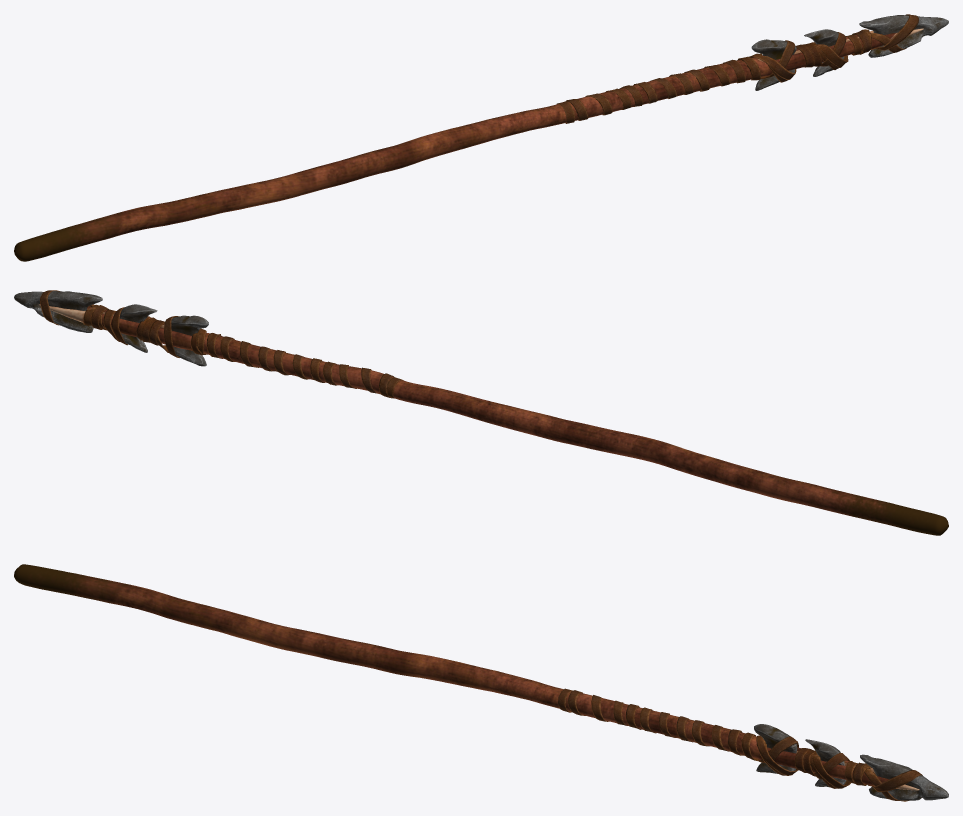
File: primal_spear.glb
3 views of the same model, one above another, from view 1: azimuth 30°, elevation 25°; view 2: azimuth 150°, elevation 25°; view 3: azimuth 330°, elevation 25° (orthographic).
Visible parts, largest first — view 1: Base_Mesh_with_leather8, defaultMaterial (×4); view 2: Base_Mesh_with_leather8, defaultMaterial (×4); view 3: Base_Mesh_with_leather8, defaultMaterial (×4).
Part boxes in pixels (box(x1,y1,x2,y2)): Base_Mesh_with_leather8: box(14, 28, 923, 261); defaultMaterial (×4): box(556, 14, 948, 123); Base_Mesh_with_leather8: box(38, 304, 948, 535); defaultMaterial (×4): box(14, 290, 403, 398); Base_Mesh_with_leather8: box(14, 564, 919, 790); defaultMaterial (×4): box(558, 688, 948, 801).
Size of the model in its own units: 1.81 by 0.0913 by 0.0527.
Materials: 1 (1 with a texture image).
